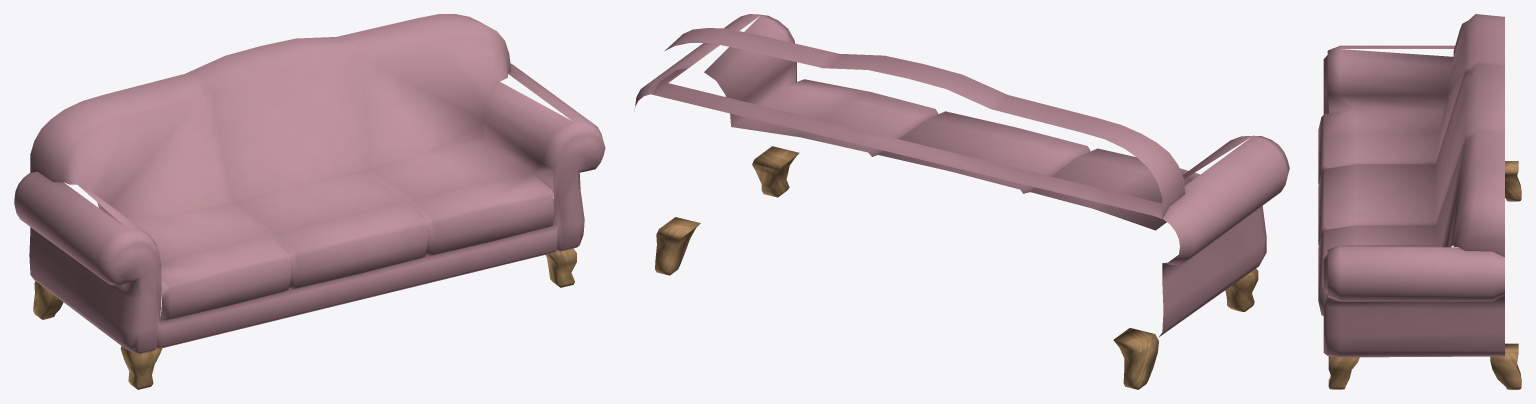
The model's file is sofa.glb.
3 renders of one model, left to right at view 1: azimuth 30°, elevation 25°; view 2: azimuth 150°, elevation 25°; view 3: azimuth 270°, elevation 25°, orthographic. The views are drawn at different scales.
Parts seen in each view (by area): view 1: sofa; view 2: sofa; view 3: sofa.
Boxes of the visible parts, x1,y1,x2,y2 form: sofa: (14, 14, 605, 389); sofa: (634, 14, 1289, 389); sofa: (1318, 14, 1521, 389).
Bounding box in the file's own units: 0.9922 × 0.4238 × 0.3789.
Materials: 1 (1 with a texture image).
